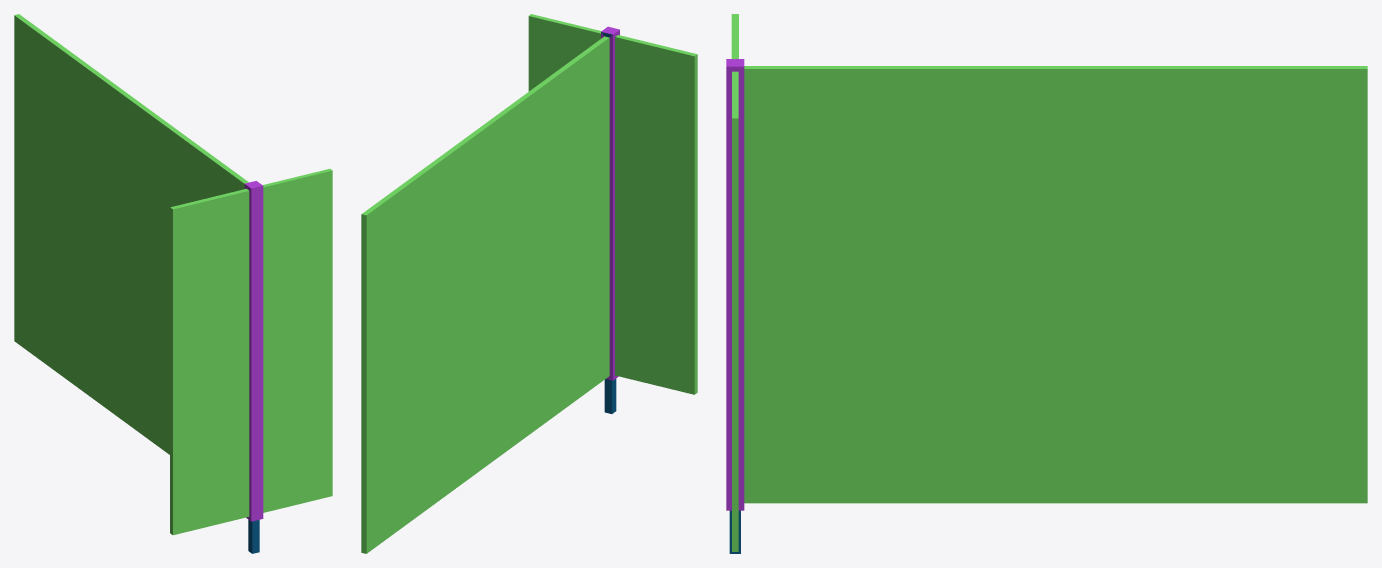
3 renders of one model, left to right at view 1: azimuth 30°, elevation 25°; view 2: azimuth 150°, elevation 25°; view 3: azimuth 270°, elevation 25°, orthographic. The views are drawn at different scales.
Visible parts, largest first — view 1: Cube.011; view 2: Cube.011; view 3: Cube.011.
Part boxes in pixels (x1,y1,x2,y2): Cube.011: (14,14,332,553); Cube.011: (361,14,697,553); Cube.011: (726,14,1367,553).
Bounding box in the file's own units: 98.85 × 217 × 258.
